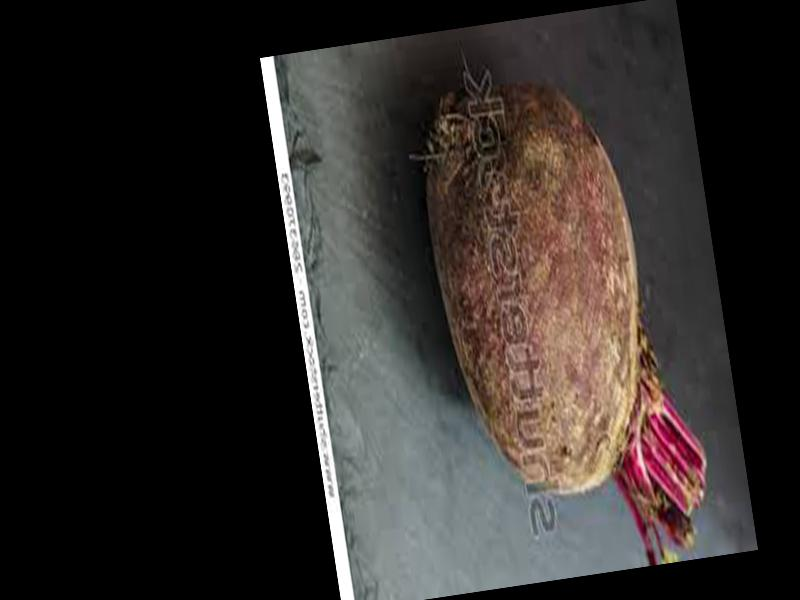Beet: (410, 60, 717, 587)
